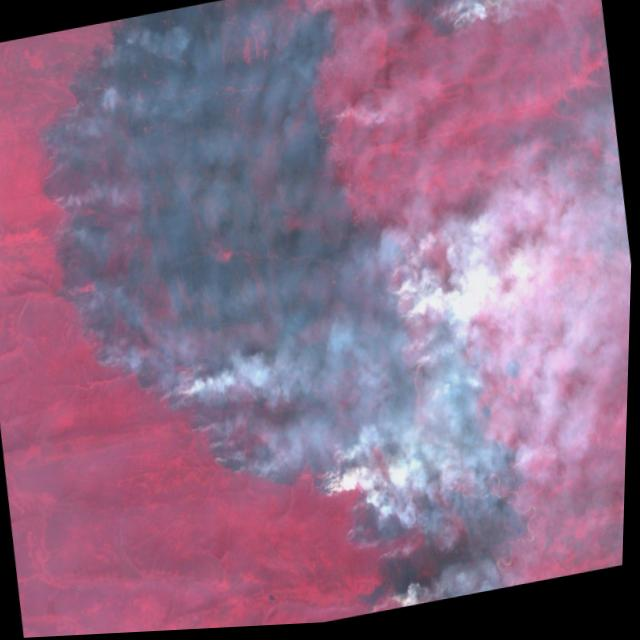fire: (11, 7, 306, 532), (380, 256, 460, 399), (427, 0, 478, 49), (320, 453, 356, 508), (362, 560, 395, 619), (320, 92, 364, 135)
